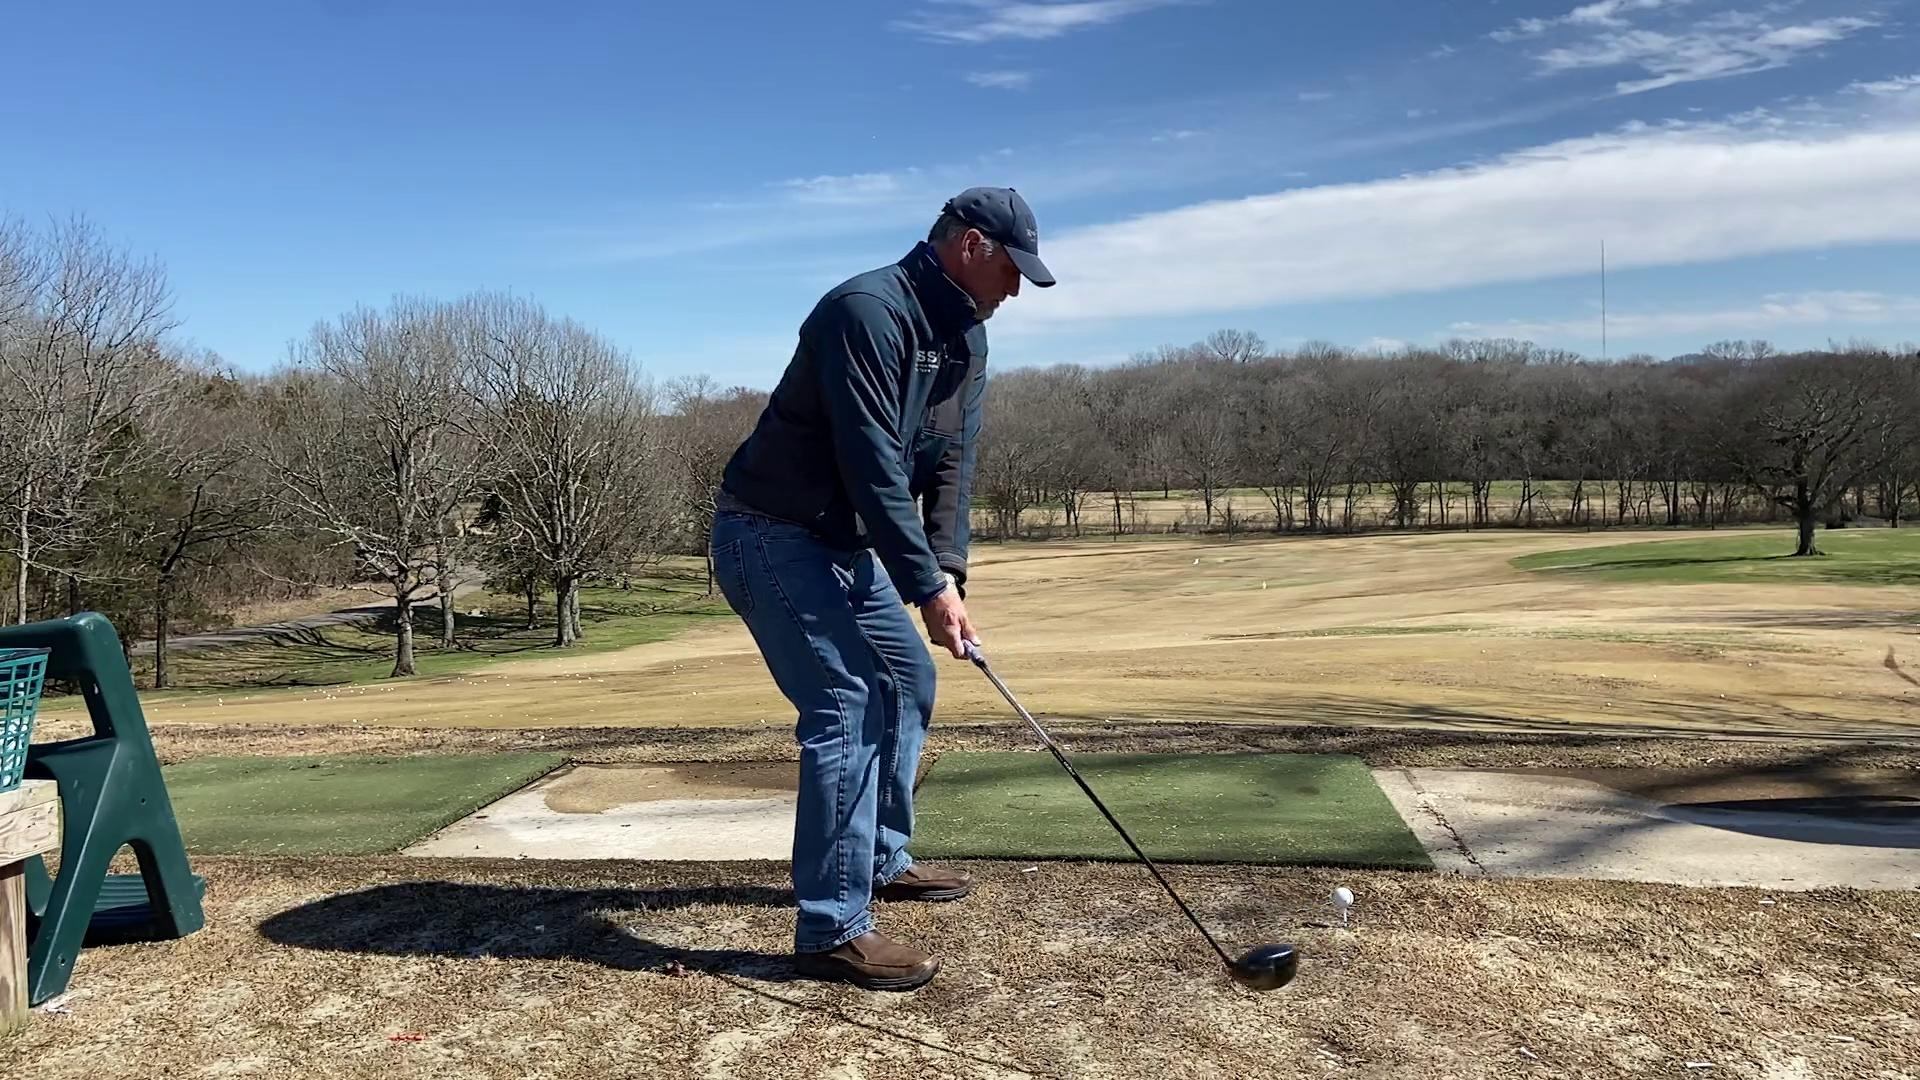ClubHead: (1212, 938, 1302, 992)
GolfBall: (1331, 884, 1356, 914)
